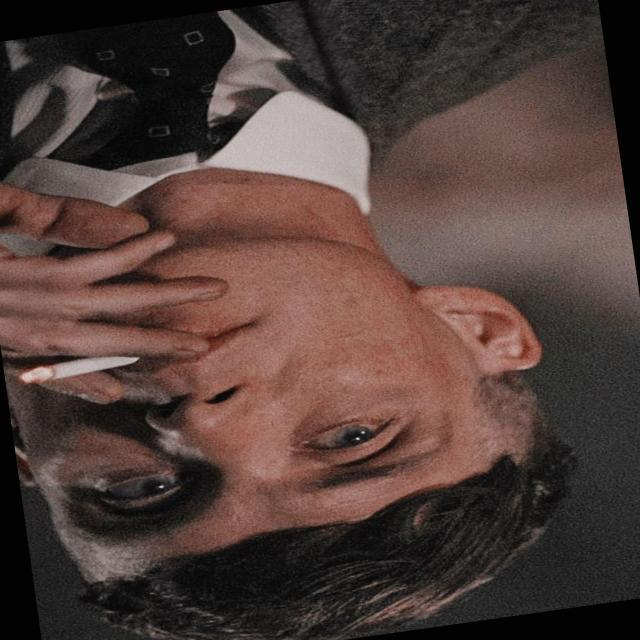smoke: (2, 336, 160, 410)
